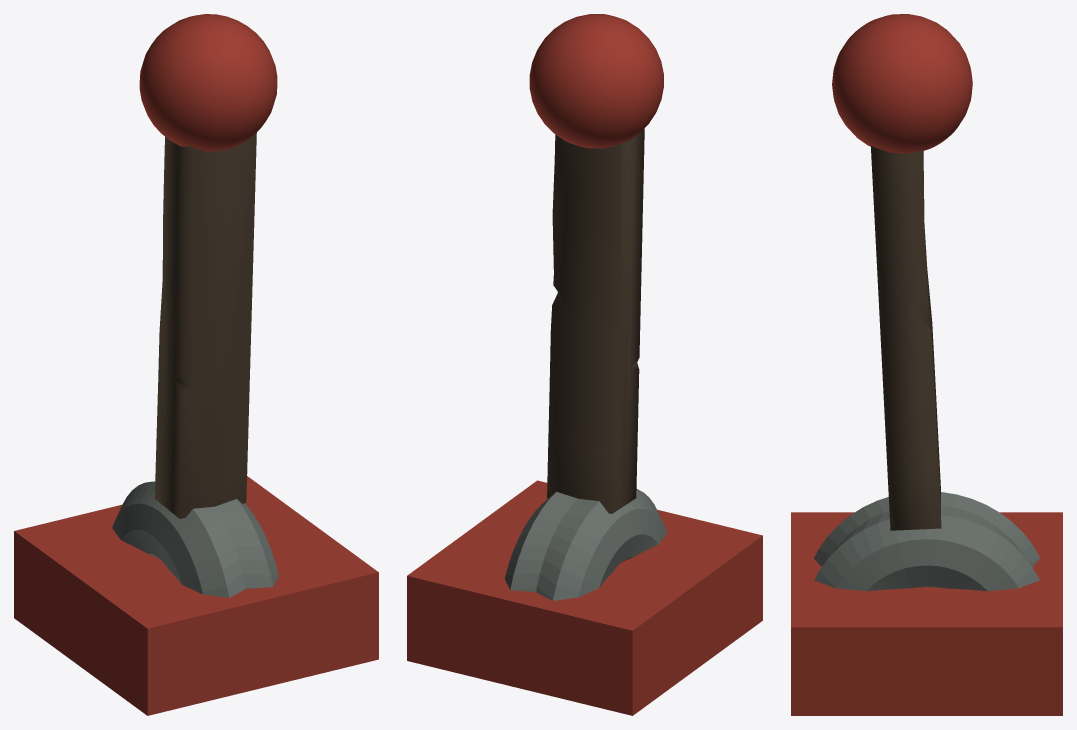
Rendered from rychag.fbx.
3 renders of one model, left to right at view 1: azimuth 30°, elevation 25°; view 2: azimuth 150°, elevation 25°; view 3: azimuth 270°, elevation 25°, orthographic. The views are drawn at different scales.
Visible parts, largest first — view 1: Cube, Куб, Сфера, Torus.001; view 2: Cube, Куб, Сфера, Torus.001; view 3: Cube, Куб, Torus.001, Сфера.
Part boxes in pixels (x1,y1,x2,y2): Cube: [14, 476, 378, 715]; Куб: [154, 132, 256, 518]; Сфера: [139, 14, 277, 151]; Torus.001: [112, 481, 278, 597]; Cube: [407, 480, 762, 715]; Куб: [547, 128, 644, 513]; Сфера: [529, 14, 663, 148]; Torus.001: [505, 489, 667, 600]; Cube: [791, 512, 1062, 715]; Куб: [870, 145, 941, 530]; Torus.001: [814, 492, 1040, 591]; Сфера: [832, 14, 972, 153].
Bounding box in the file's own units: 105 × 272 × 105.
